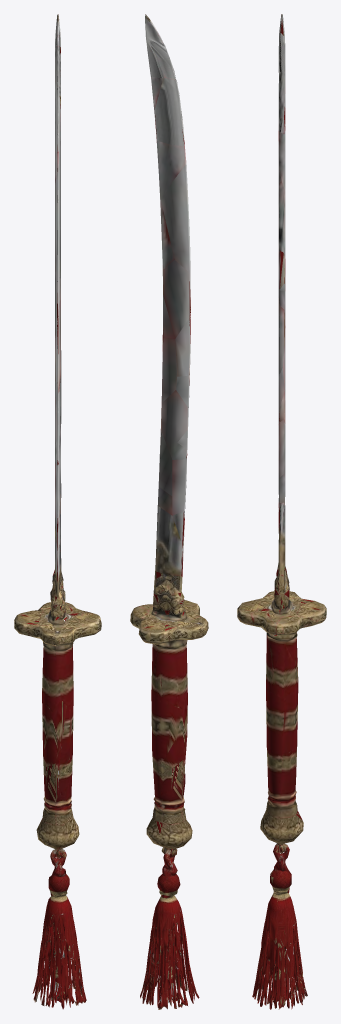
The model's file is weapon_joseon_ungeom_lod1.glb.
The picture shows the model from 3 angles, left to right: view 1: azimuth 90°, elevation 25°; view 2: azimuth 150°, elevation 25°; view 3: azimuth 270°, elevation 25°; orthographic projection. The views are drawn at different scales.
Size of the model in its own units: 0.0873 by 1.12 by 0.0913.
1 material, 1 textured.
